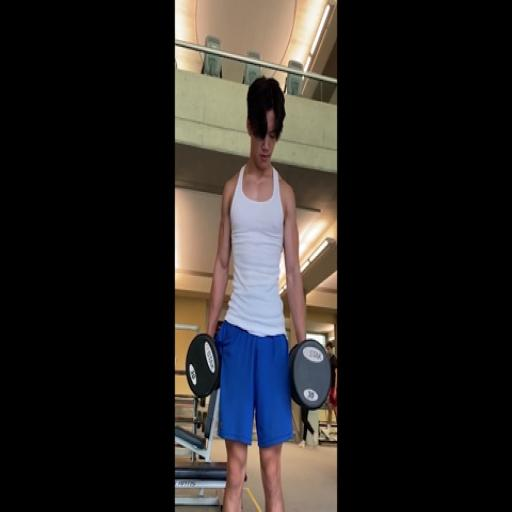exercise: (202, 74, 312, 511)
